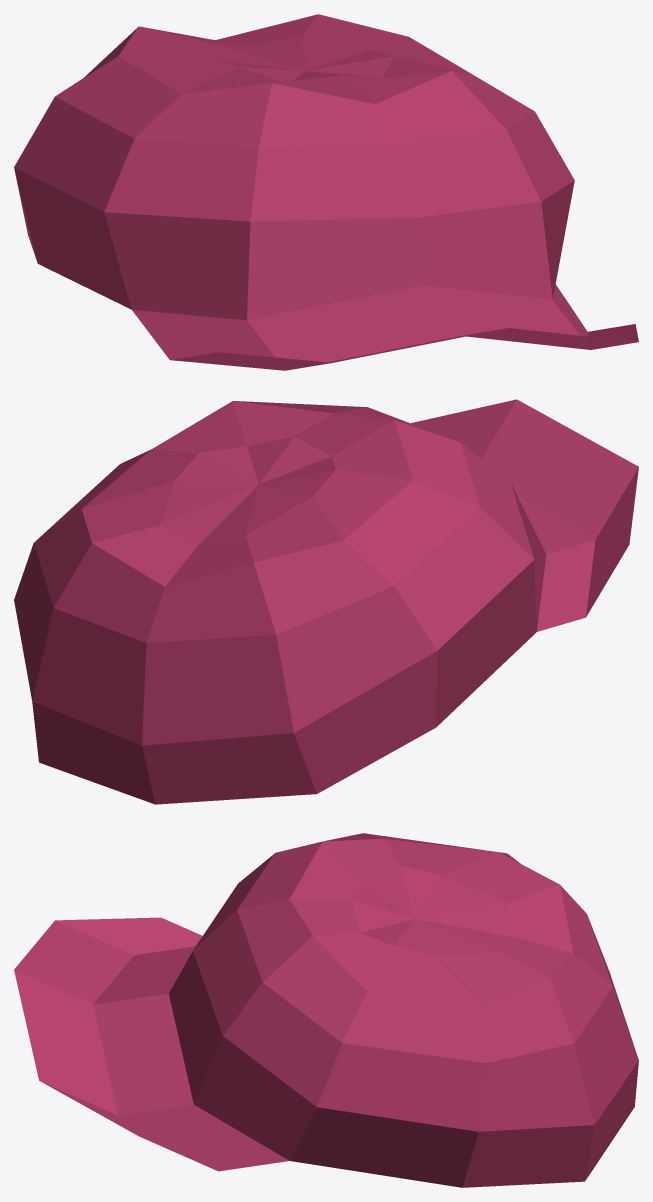
Rendered from V_Hat_01.fbx.
3 views of the same model, one above another, from view 1: azimuth 30°, elevation 25°; view 2: azimuth 150°, elevation 25°; view 3: azimuth 270°, elevation 25° (orthographic). The views are drawn at different scales.
Parts seen in each view (by area): view 1: Vanessa_Constraints_24Sept:Hat_01; view 2: Vanessa_Constraints_24Sept:Hat_01; view 3: Vanessa_Constraints_24Sept:Hat_01.
Boxes of the visible parts, x1=… form: Vanessa_Constraints_24Sept:Hat_01: x1=14, y1=14, x2=638, y2=370; Vanessa_Constraints_24Sept:Hat_01: x1=14, y1=399, x2=638, y2=804; Vanessa_Constraints_24Sept:Hat_01: x1=14, y1=833, x2=638, y2=1187.
Size of the model in its own units: 1.01 by 0.6165 by 1.39.
